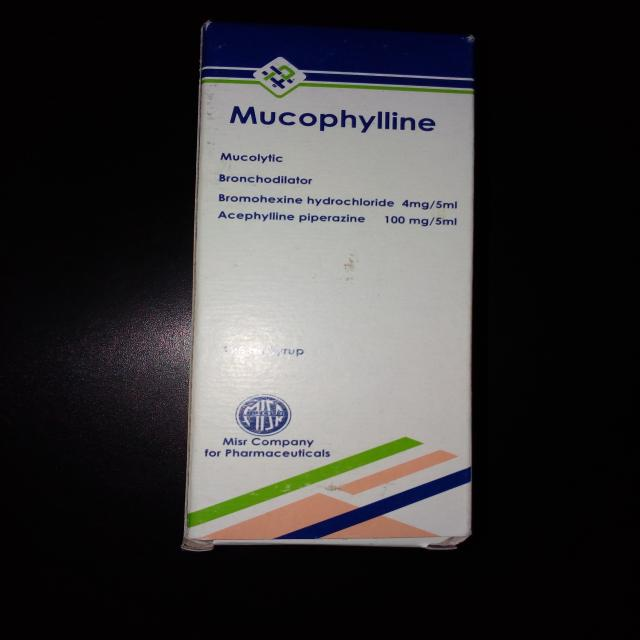Medicine: (174, 14, 490, 557)
